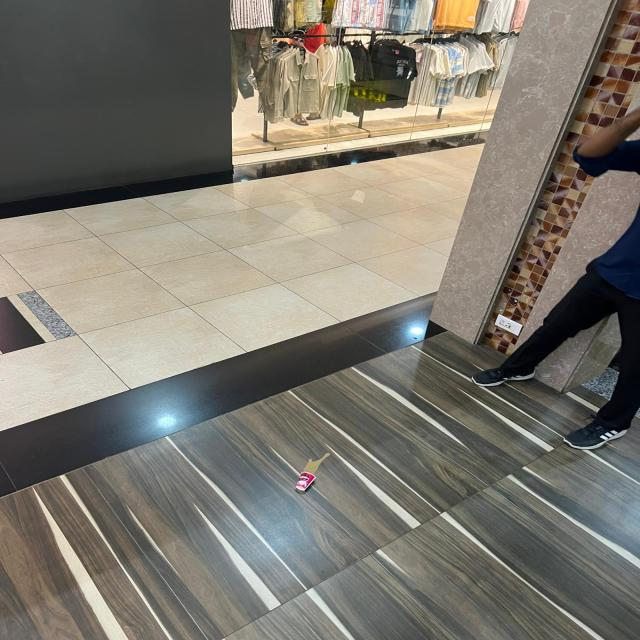cup: (296, 471, 315, 493)
spill: (304, 457, 324, 473)
